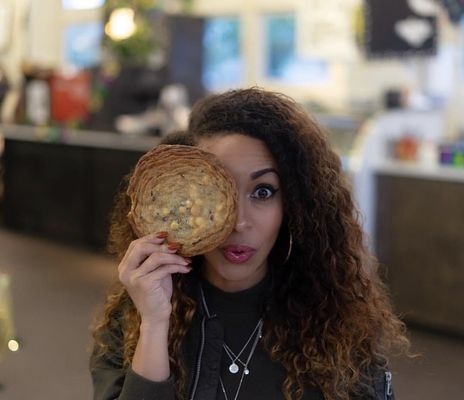salad: (122, 141, 238, 259)
